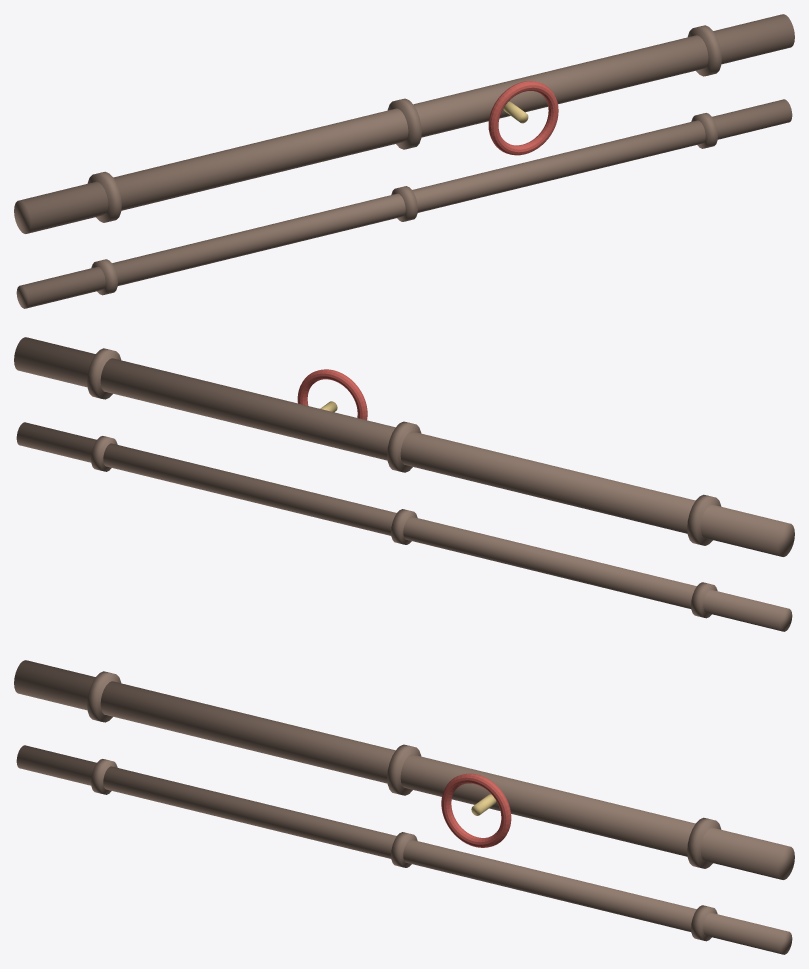
File: pipe_assembly.glb
The picture shows the model from 3 angles, top to bottom: view 1: azimuth 30°, elevation 25°; view 2: azimuth 150°, elevation 25°; view 3: azimuth 330°, elevation 25°; orthographic projection.
Parts seen in each view (by area): view 1: Pipe_0.16, Pipe_-0.12, Torus, Flange_0.16_1.1, Flange_0.16_0.0, Flange_0.16_-1.1, Flange_-0.12_-1.1, Flange_-0.12_0.0, Flange_-0.12_1.1; view 2: Pipe_0.16, Pipe_-0.12, Torus, Flange_0.16_1.1, Flange_0.16_0.0, Flange_0.16_-1.1, Flange_-0.12_-1.1, Flange_-0.12_0.0, Flange_-0.12_1.1; view 3: Pipe_0.16, Pipe_-0.12, Torus, Flange_0.16_-1.1, Flange_0.16_0.0, Flange_0.16_1.1, Flange_-0.12_1.1, Flange_-0.12_0.0, Flange_-0.12_-1.1.
Part boxes in pixels (x1,y1,x2,y2): Pipe_0.16: (14, 14, 794, 233); Pipe_-0.12: (16, 99, 792, 308); Torus: (488, 81, 558, 155); Flange_0.16_1.1: (687, 25, 721, 76); Flange_0.16_0.0: (387, 98, 421, 149); Flange_0.16_-1.1: (87, 171, 121, 222); Flange_-0.12_-1.1: (91, 259, 117, 295); Flange_-0.12_0.0: (391, 186, 417, 221); Flange_-0.12_1.1: (691, 113, 717, 148); Pipe_0.16: (14, 337, 794, 556); Pipe_-0.12: (16, 422, 792, 631); Torus: (297, 369, 367, 420); Flange_0.16_1.1: (87, 348, 121, 399); Flange_0.16_0.0: (387, 421, 421, 472); Flange_0.16_-1.1: (687, 494, 721, 545); Flange_-0.12_-1.1: (691, 582, 717, 618); Flange_-0.12_0.0: (391, 509, 417, 544); Flange_-0.12_1.1: (91, 436, 117, 471); Pipe_0.16: (14, 660, 794, 879); Pipe_-0.12: (16, 745, 792, 954); Torus: (441, 773, 511, 847); Flange_0.16_-1.1: (87, 671, 121, 722); Flange_0.16_0.0: (387, 744, 421, 795); Flange_0.16_1.1: (687, 817, 721, 868); Flange_-0.12_1.1: (691, 905, 717, 941); Flange_-0.12_0.0: (391, 832, 417, 867); Flange_-0.12_-1.1: (91, 759, 117, 794).
Size of the model in its own units: 2.8 by 0.4611 by 0.2458.
